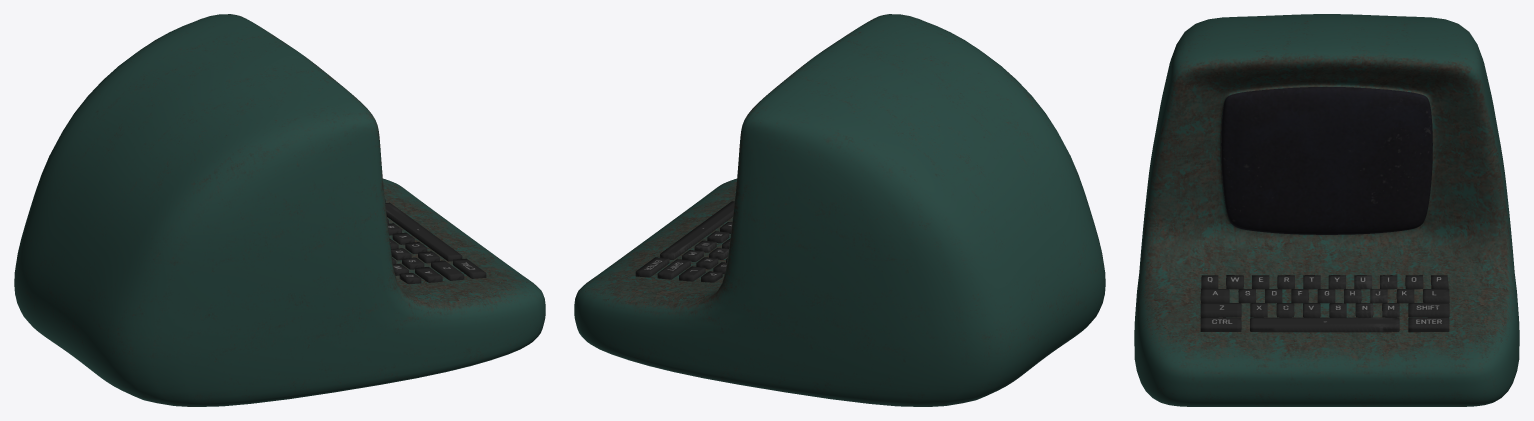
Rendered from old-computer.glb.
3 views of the same model, side by side, from view 1: azimuth 30°, elevation 25°; view 2: azimuth 150°, elevation 25°; view 3: azimuth 270°, elevation 25° (orthographic). The views are drawn at different scales.
Visible parts, largest first — view 1: Terminal, Keyboard; view 2: Terminal, Keyboard; view 3: Terminal, Terminal.001, Keyboard.
Boxes of the visible parts, box(x1,y1,x2,y2) form: Terminal: box(14, 14, 545, 406); Keyboard: box(385, 199, 486, 283); Terminal: box(574, 14, 1105, 406); Keyboard: box(635, 201, 734, 282); Terminal: box(1134, 14, 1519, 406); Terminal.001: box(1221, 87, 1432, 234); Keyboard: box(1200, 275, 1449, 332).
Size of the model in its own units: 0.8346 by 0.5201 by 0.6493.
Materials: 3 (3 with a texture image).
